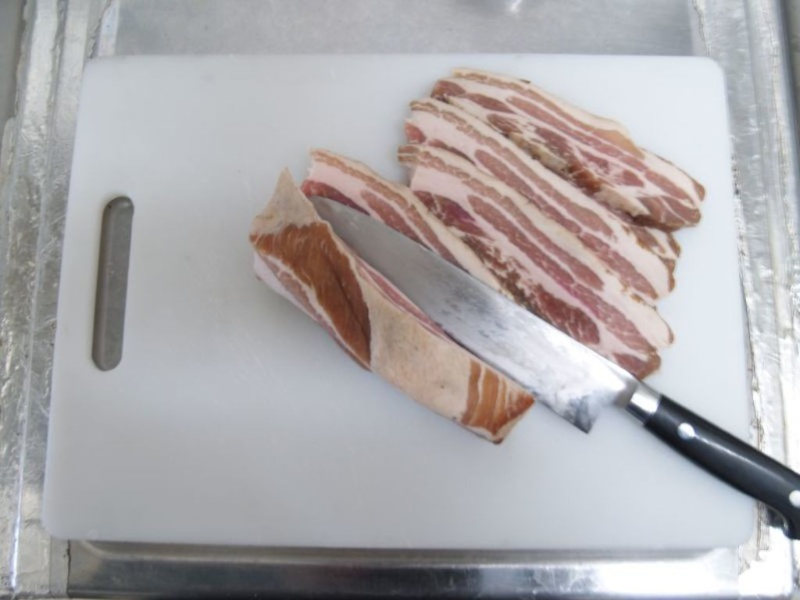knife: (299, 194, 800, 541)
